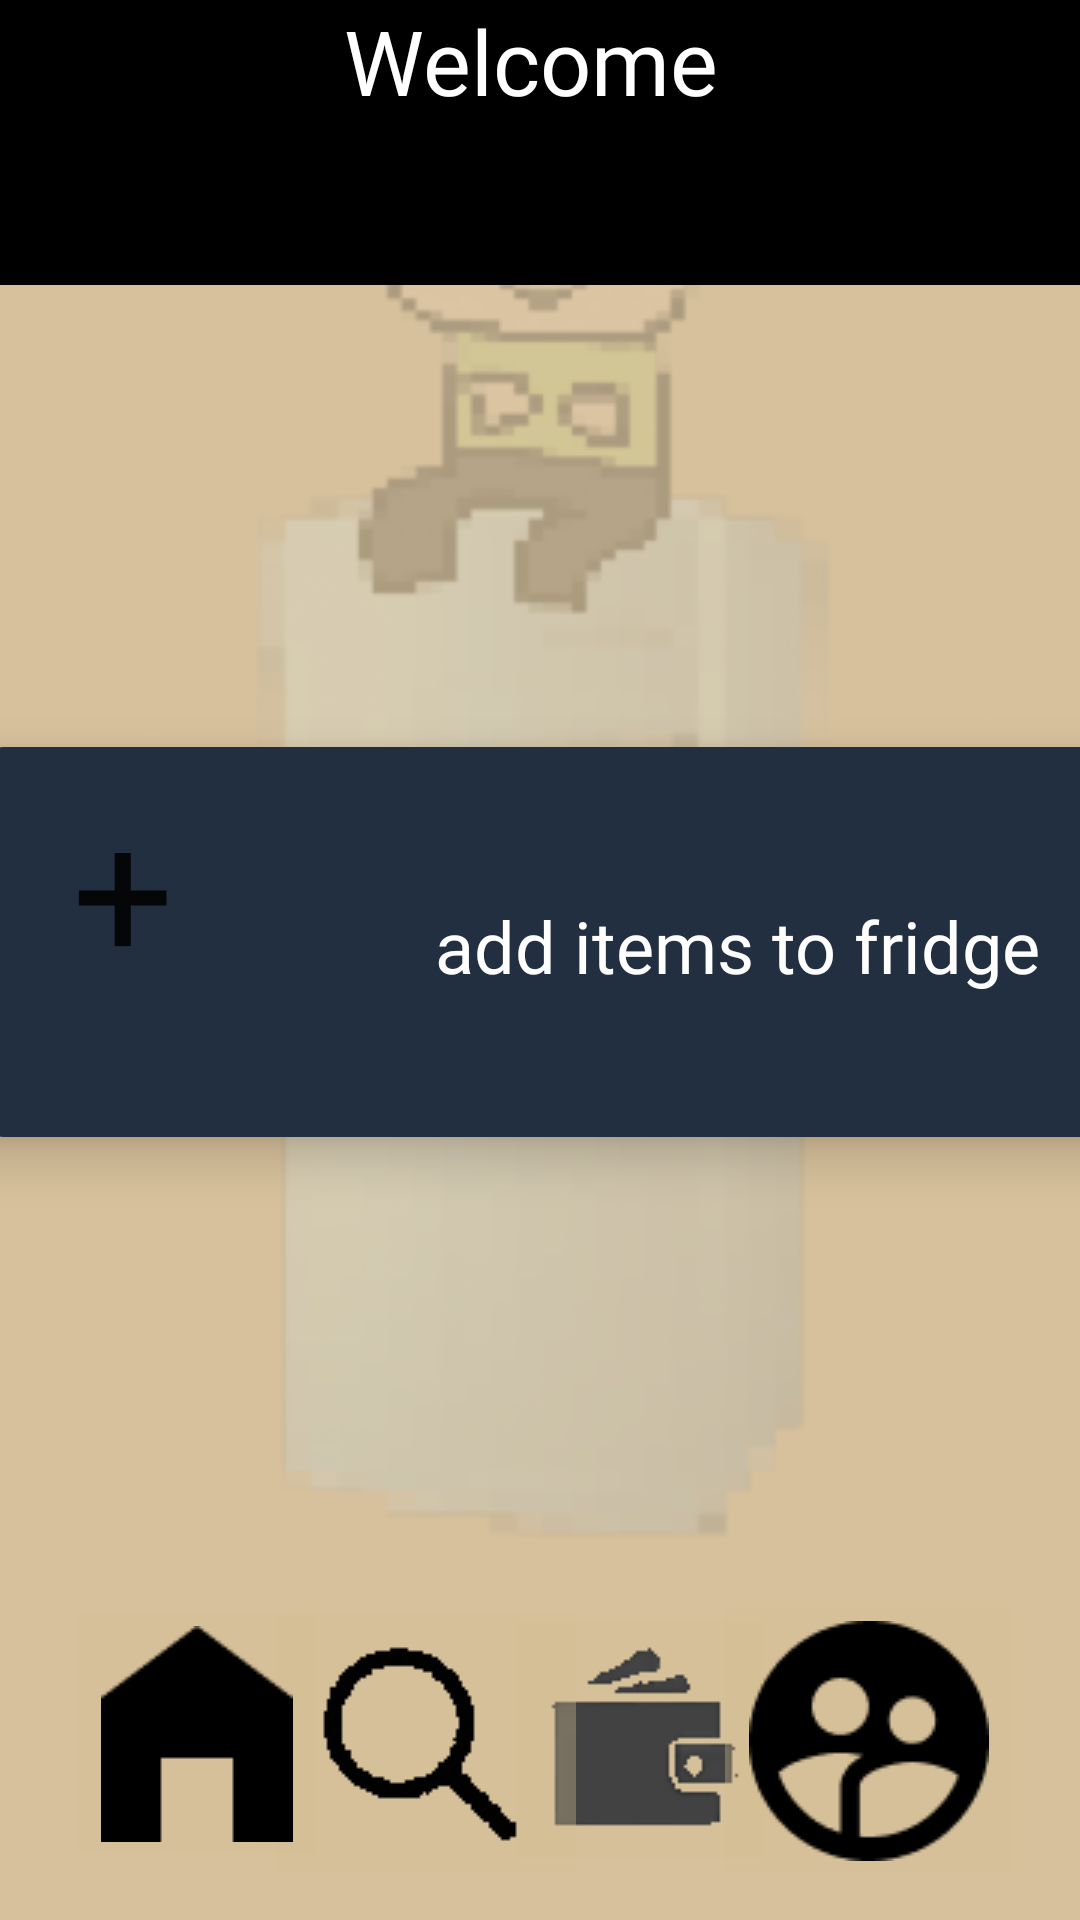

Named icons in this screenshot (1080x1920) and their centers, (x=x, y=y):
homepage: (x=197, y=1734)
wallet: (x=645, y=1736)
